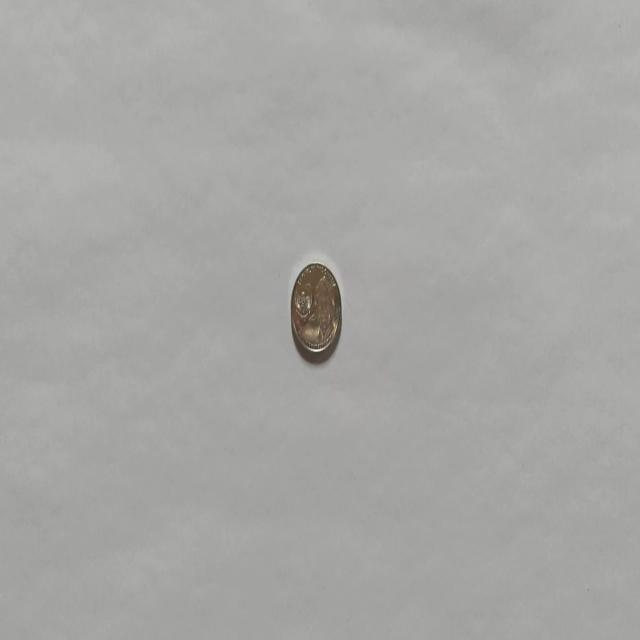dua ratus rupiah: (290, 260, 342, 354)
